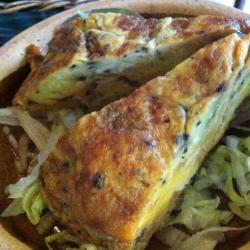omelette: (28, 14, 235, 243)
salad: (182, 183, 242, 237)
